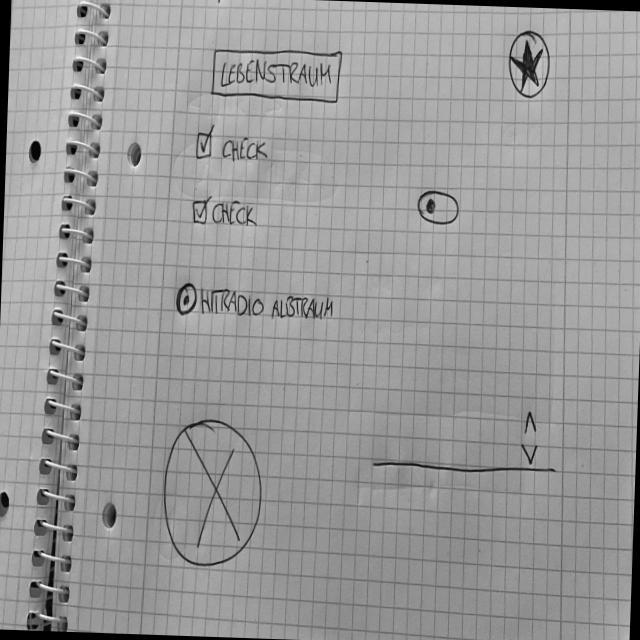button: (211, 43, 346, 110)
checkbox: (196, 123, 273, 166), (191, 195, 262, 233)
icon-button: (506, 27, 553, 101)
image: (157, 414, 267, 573)
number-input: (370, 400, 560, 480)
radio: (176, 280, 337, 326)
toggle: (418, 188, 462, 228)
